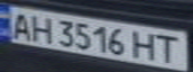1: (90, 24, 109, 53)
3: (51, 17, 75, 48)
5: (72, 20, 93, 52)
6: (109, 25, 130, 56)
A: (6, 9, 36, 40)
H: (130, 29, 160, 62), (27, 12, 57, 44)
T: (151, 31, 184, 64)
